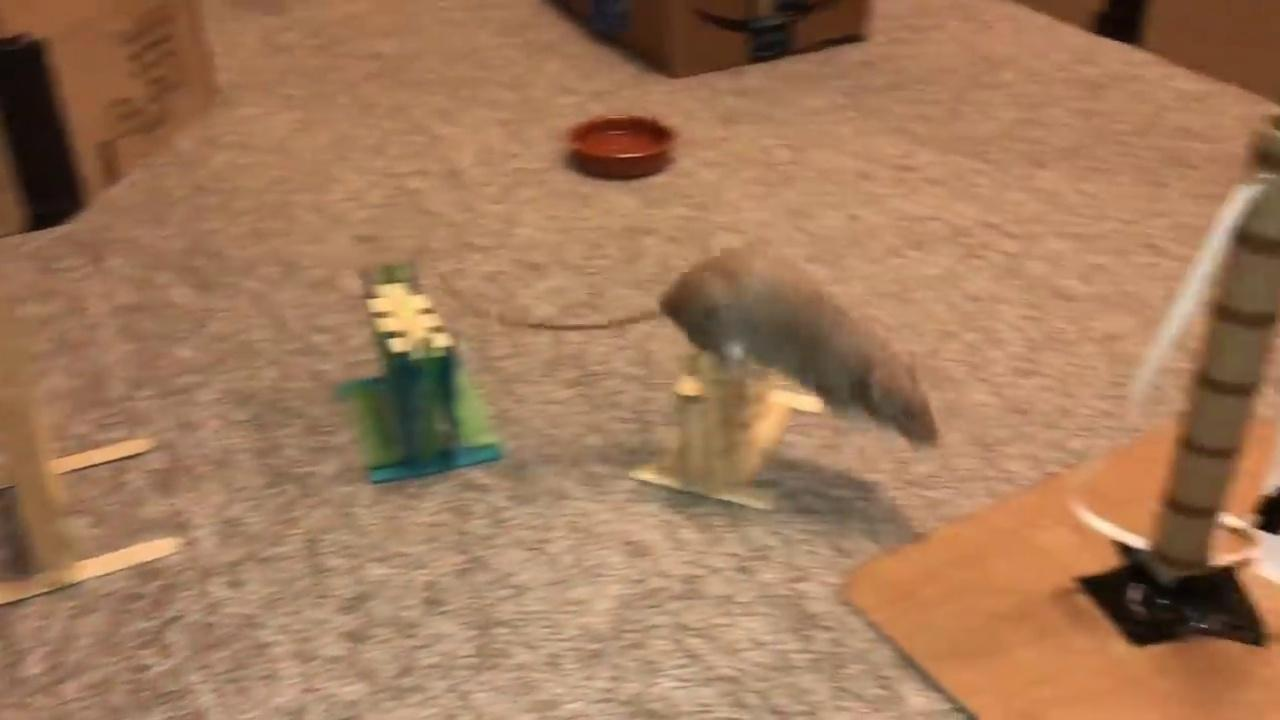rat: (489, 236, 938, 447)
